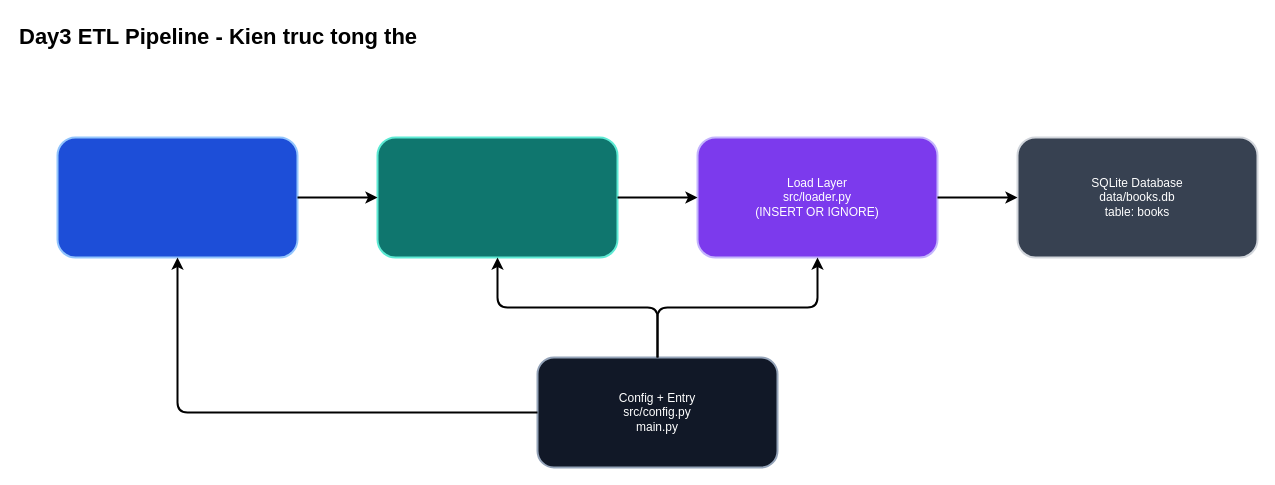
This 1275x485 diagram has some shape labels left out. Here are the shapes that lost their labels. From the top down, the box of each, then its label:
(56, 136, 298, 258): Extract Layer src/fetcher.py (Open Library API)
(376, 136, 618, 258): Transform Layer src/transformer.py (clean + normalize)
